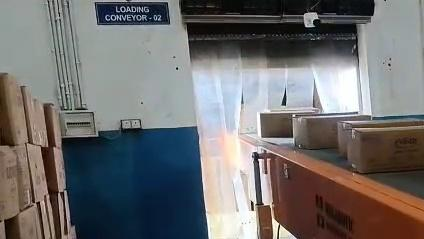box: (347, 127, 424, 173), (338, 119, 424, 157), (293, 114, 370, 149), (257, 107, 318, 137)
